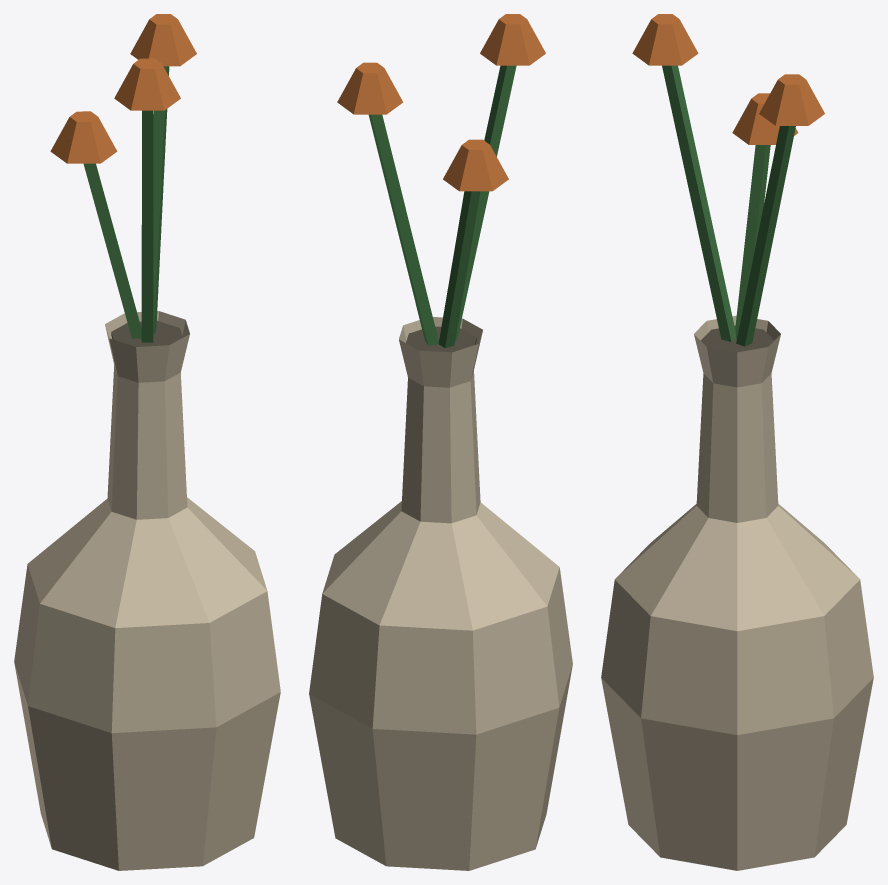
The model's file is vase-36.glb.
3 views of the same model, side by side, from view 1: azimuth 30°, elevation 25°; view 2: azimuth 150°, elevation 25°; view 3: azimuth 270°, elevation 25° (orthographic).
Parts seen in each view (by area): view 1: vase_36; view 2: vase_36; view 3: vase_36.
Part boxes in pixels (box(x1,y1,x2,y2)): vase_36: box(14, 14, 280, 870); vase_36: box(309, 14, 572, 870); vase_36: box(601, 14, 873, 870).
Size of the model in its own units: 0.2883 by 0.9193 by 0.2883.
